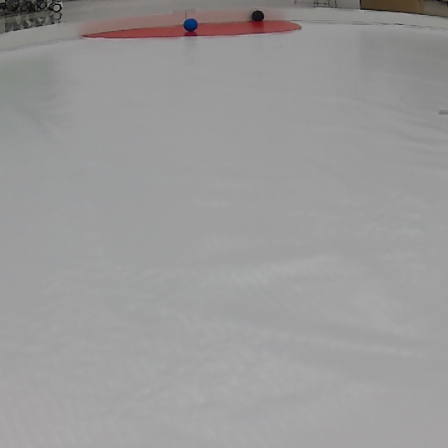black: (250, 10, 264, 20)
blue: (182, 18, 198, 31)
red_base: (84, 19, 305, 39)
